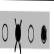correct: (41, 26, 47, 45)
not correct: (14, 14, 22, 54)
